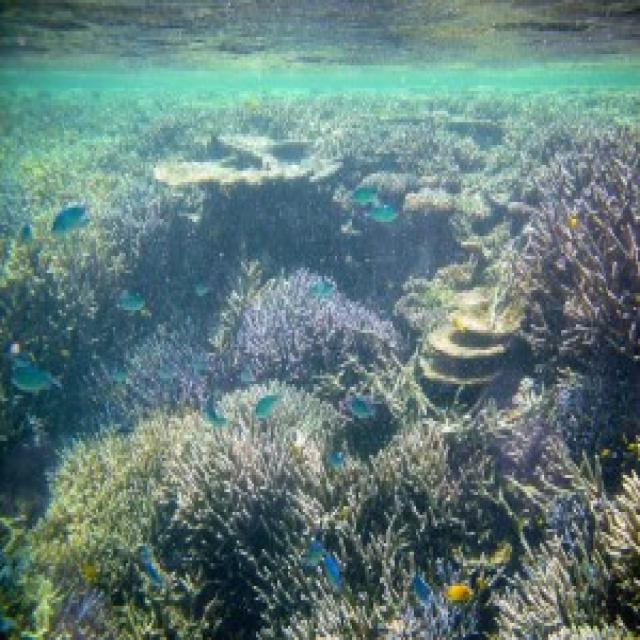Healthy: (31, 266, 639, 638), (33, 402, 327, 638), (1, 157, 204, 439), (513, 129, 639, 365), (110, 263, 261, 422), (396, 223, 517, 388), (231, 271, 398, 379)
